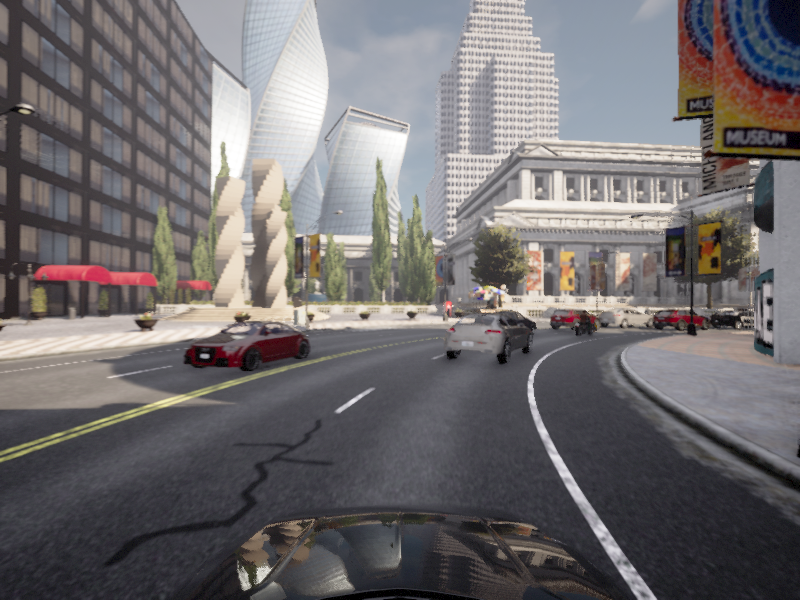vehicle: (174, 318, 316, 377), (436, 311, 535, 367), (473, 310, 540, 338), (704, 308, 780, 329), (646, 308, 714, 331), (544, 307, 604, 331), (593, 307, 657, 329), (648, 310, 716, 327), (570, 309, 599, 337)
